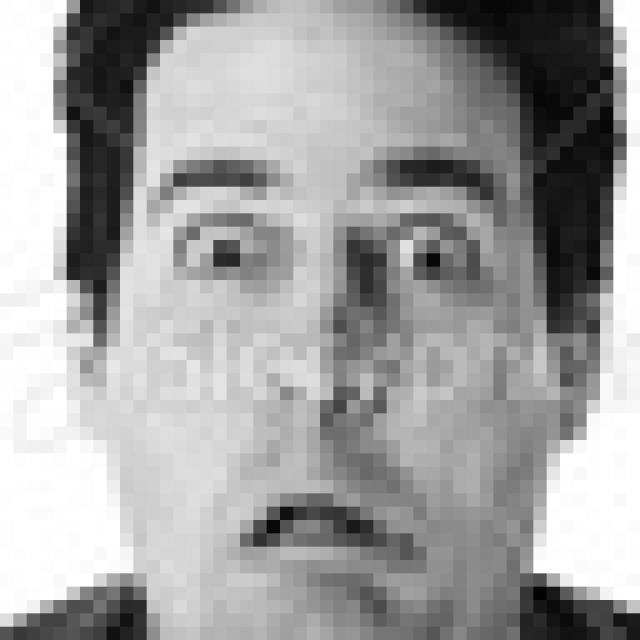fear: (143, 145, 512, 592)
